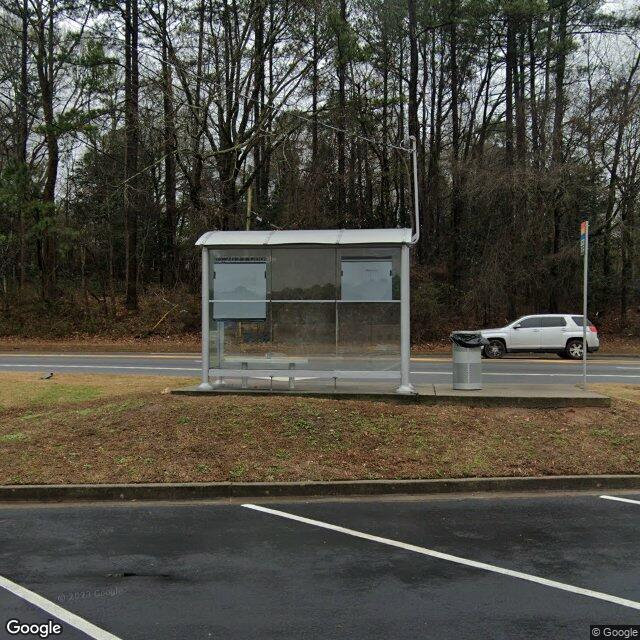seating: (223, 352, 310, 391)
shelter: (194, 228, 416, 392)
trash_can: (449, 330, 483, 390)
